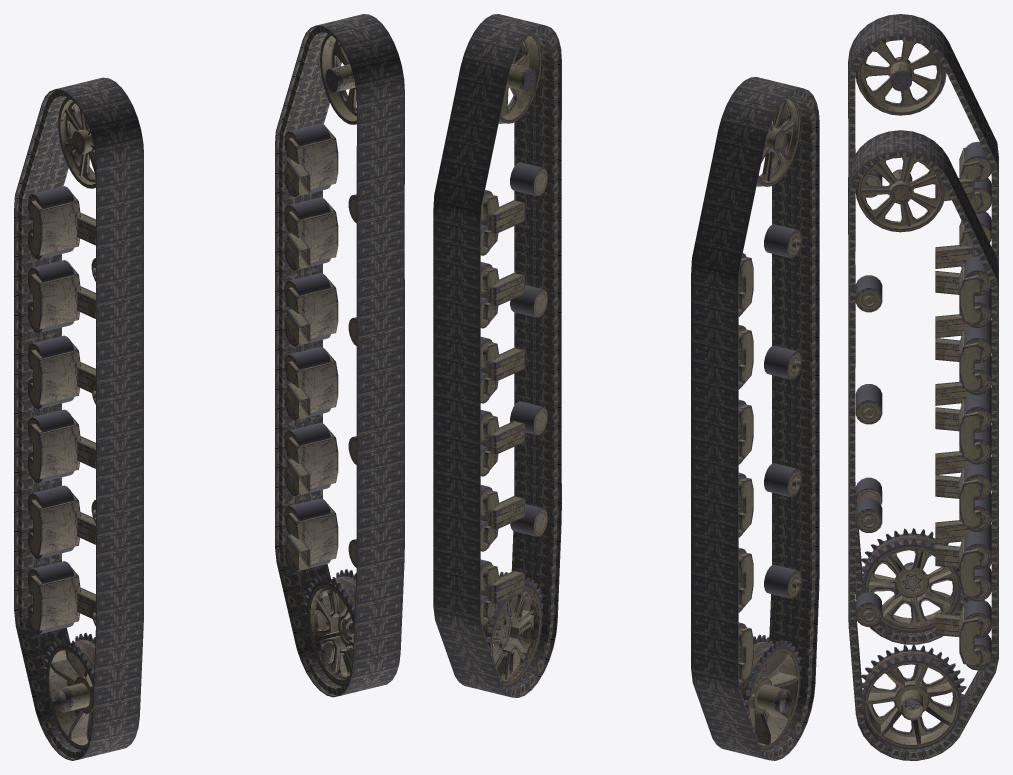
The model's file is Chassis.glb.
3 views of the same model, side by side, from view 1: azimuth 30°, elevation 25°; view 2: azimuth 150°, elevation 25°; view 3: azimuth 270°, elevation 25° (orthographic). The views are drawn at different scales.
Visible parts, largest first — view 1: set_0_group_0, set_1_group_0, set_5_group_0, set_3_group_0, set_2_group_0, set_4_group_0; view 2: set_0_group_0, set_1_group_0, set_5_group_0, set_3_group_0, set_2_group_0, set_4_group_0; view 3: set_5_group_0, set_3_group_0, set_1_group_0, set_0_group_0, set_4_group_0.
Boxes of the visible parts, box(x1,y1,x2,y2) form: set_0_group_0: box(14, 77, 143, 760); set_1_group_0: box(275, 14, 404, 697); set_5_group_0: box(284, 34, 356, 686); set_3_group_0: box(28, 97, 95, 749); set_2_group_0: box(28, 341, 80, 630); set_4_group_0: box(285, 278, 338, 568); set_0_group_0: box(691, 77, 819, 760); set_1_group_0: box(433, 14, 561, 697); set_5_group_0: box(480, 34, 547, 687); set_3_group_0: box(738, 96, 801, 750); set_2_group_0: box(738, 404, 753, 682); set_4_group_0: box(480, 342, 499, 620); set_5_group_0: box(855, 156, 991, 749); set_3_group_0: box(855, 40, 991, 633); set_1_group_0: box(848, 130, 998, 760); set_0_group_0: box(848, 14, 998, 644); set_4_group_0: box(959, 398, 983, 666).
Bounding box in the file's own units: 2.38 × 4.9 × 1.1.
Materials: 6 (6 with a texture image).
